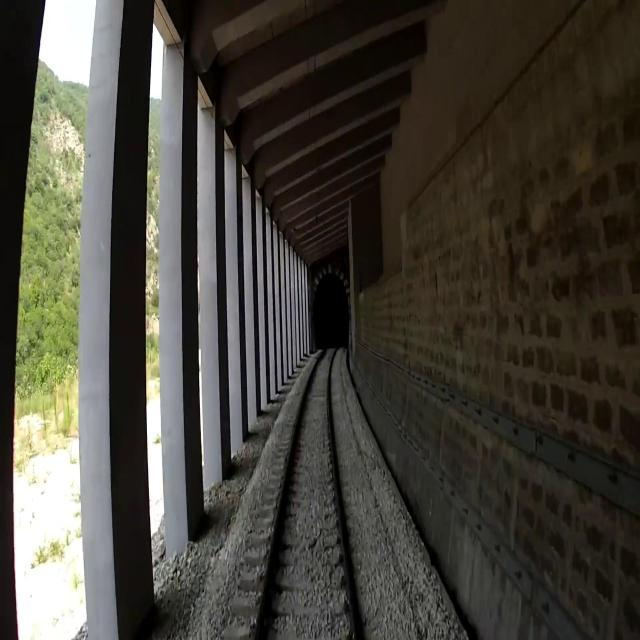rail-track: (257, 342, 355, 639)
